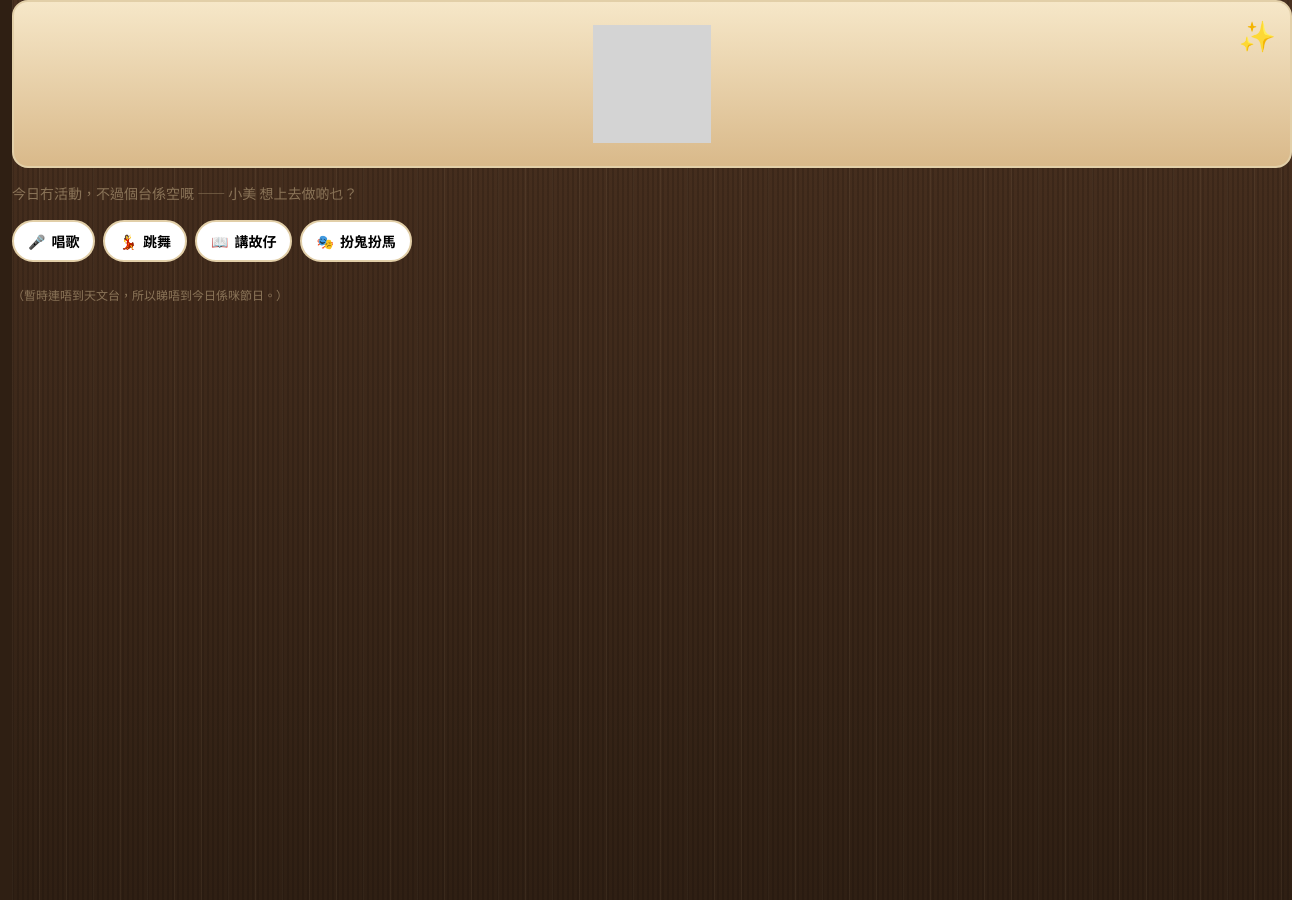
MINIMEE route shells › lets a child perform on an empty stage without promising a reward
This screenshot has width=1292, height=900.
Expected: the text "今日冇活動，不過個台係空嘅 —— 小美 想上去做啲乜？" is shown, [12,183,357,203]
Expected: the button "💃 跳舞" is shown, [104,220,187,262]
Click the button "🎤 唱歌".
click(54, 241)  # box [12,220,96,262]
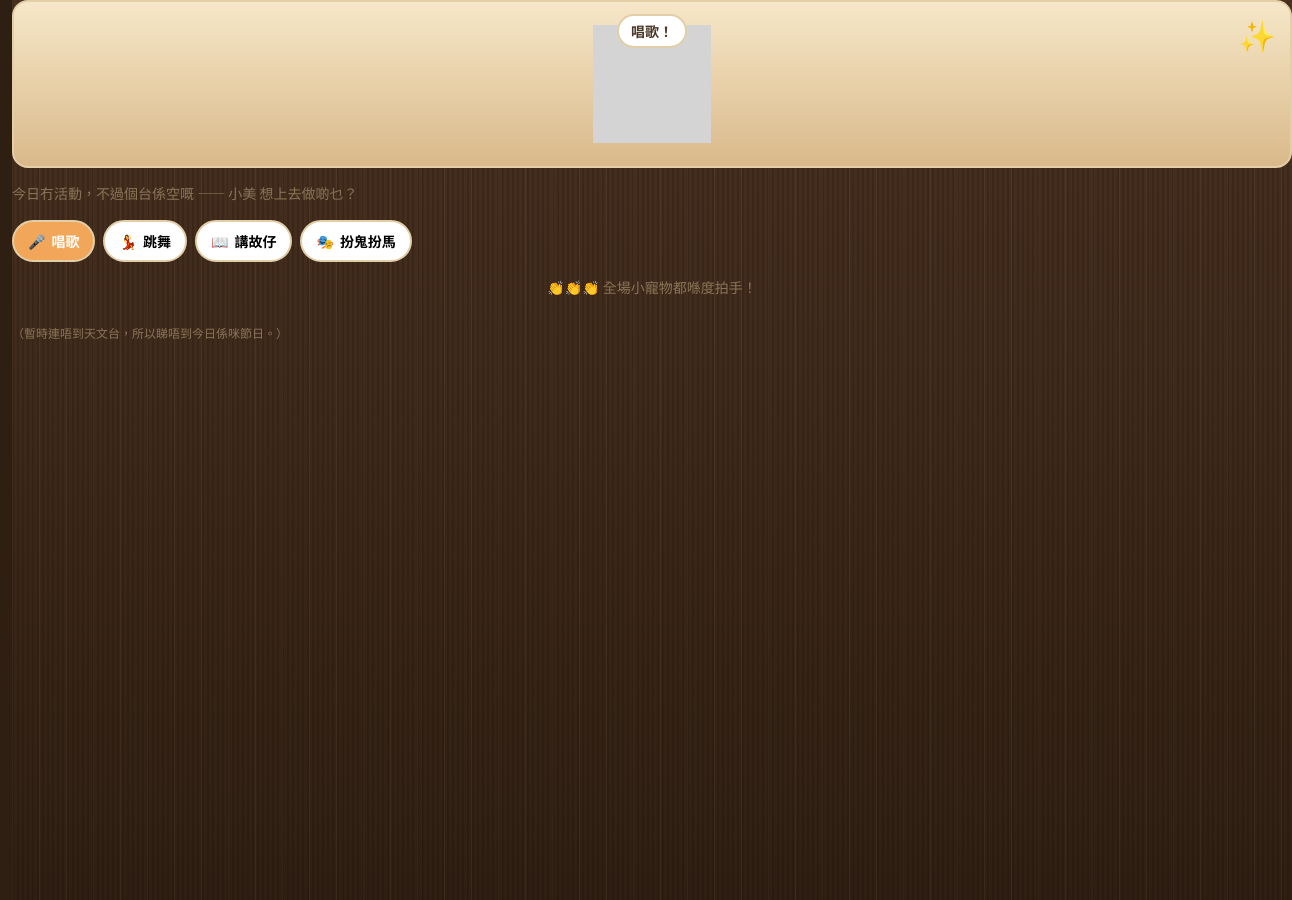
Expected: the text "👏👏👏 全場小寵物都喺度拍手！" is shown, [547,277,757,297]
